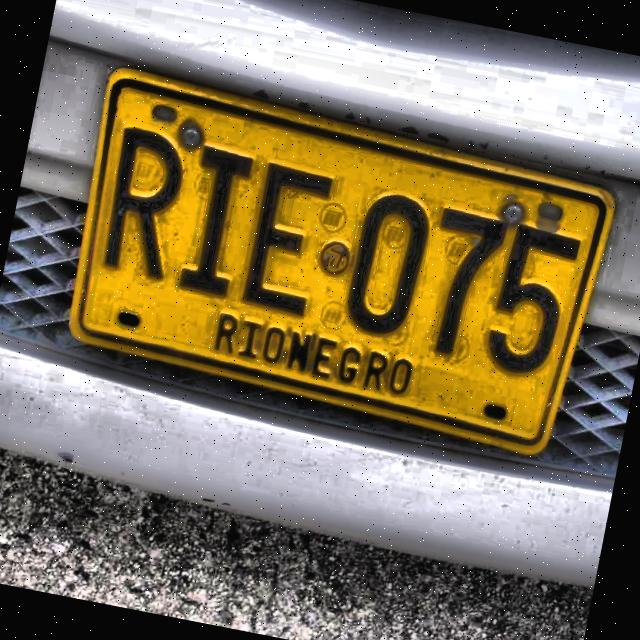0: (338, 179, 439, 344)
5: (476, 219, 589, 387)
7: (408, 196, 512, 366)
E: (236, 154, 336, 322)
I: (174, 133, 261, 305)
R: (92, 123, 198, 284)
